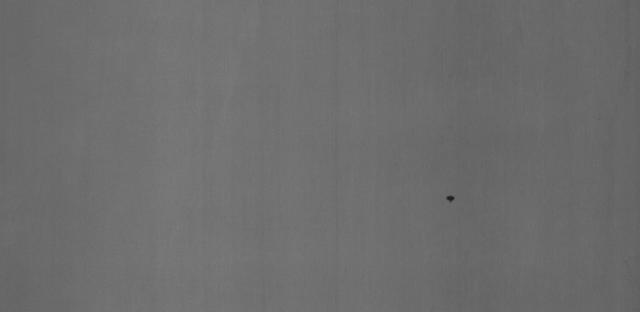inclusion: (444, 190, 456, 205)
